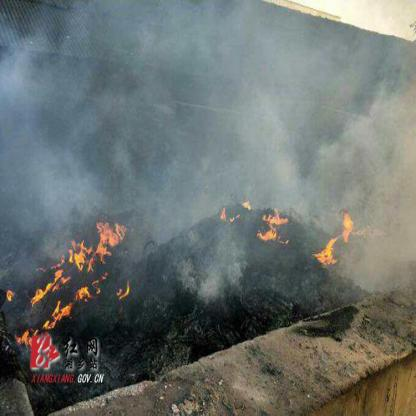fire: (2, 225, 130, 339), (318, 208, 353, 267), (216, 187, 252, 225), (256, 207, 287, 242)
